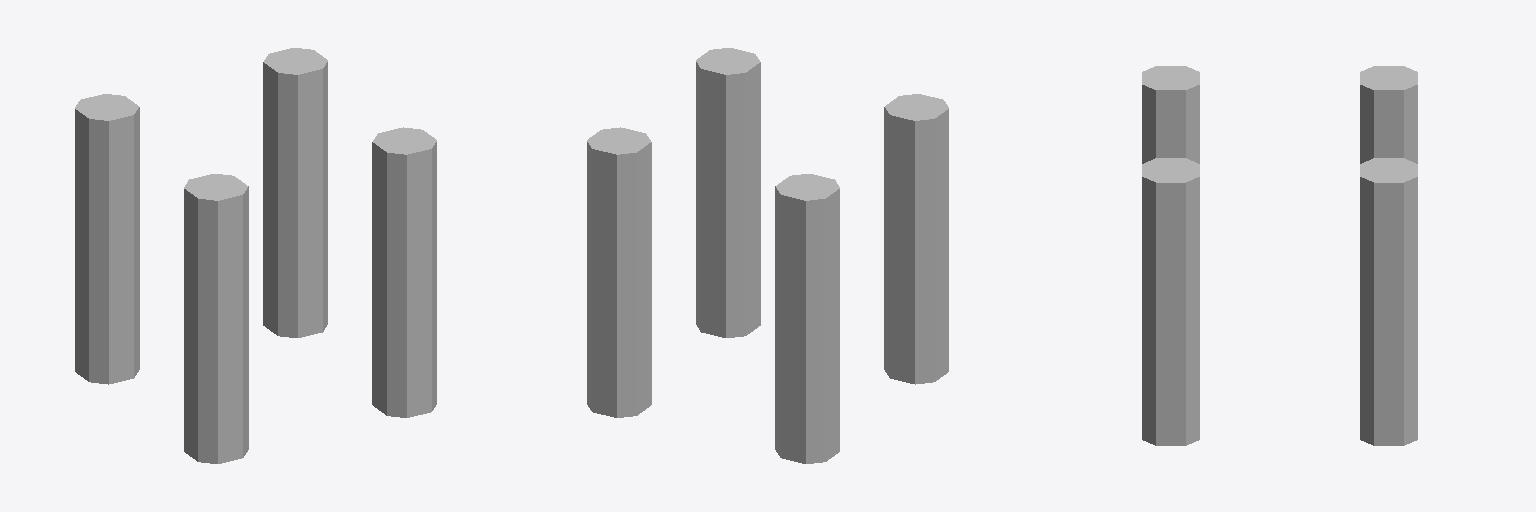
File: supports.obj
3 renders of one model, left to right at view 1: azimuth 30°, elevation 25°; view 2: azimuth 150°, elevation 25°; view 3: azimuth 270°, elevation 25°, orthographic.
Parts seen in each view (by area): view 1: supports; view 2: supports; view 3: supports.
Boxes of the visible parts, x1=… form: supports: x1=75, y1=48, x2=436, y2=463; supports: x1=587, y1=48, x2=948, y2=463; supports: x1=1142, y1=66, x2=1417, y2=445.
Size of the model in its own units: 0.95 by 1 by 0.95.